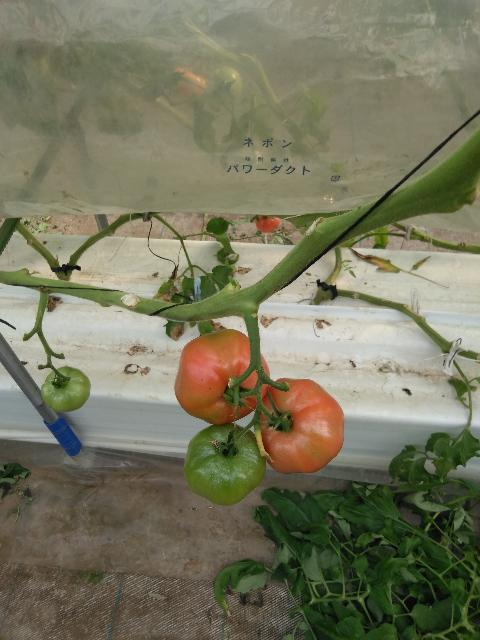b_green: (183, 423, 266, 507), (41, 367, 91, 412)
b_half_ripened: (174, 328, 271, 425), (256, 377, 344, 474), (255, 214, 280, 233)
